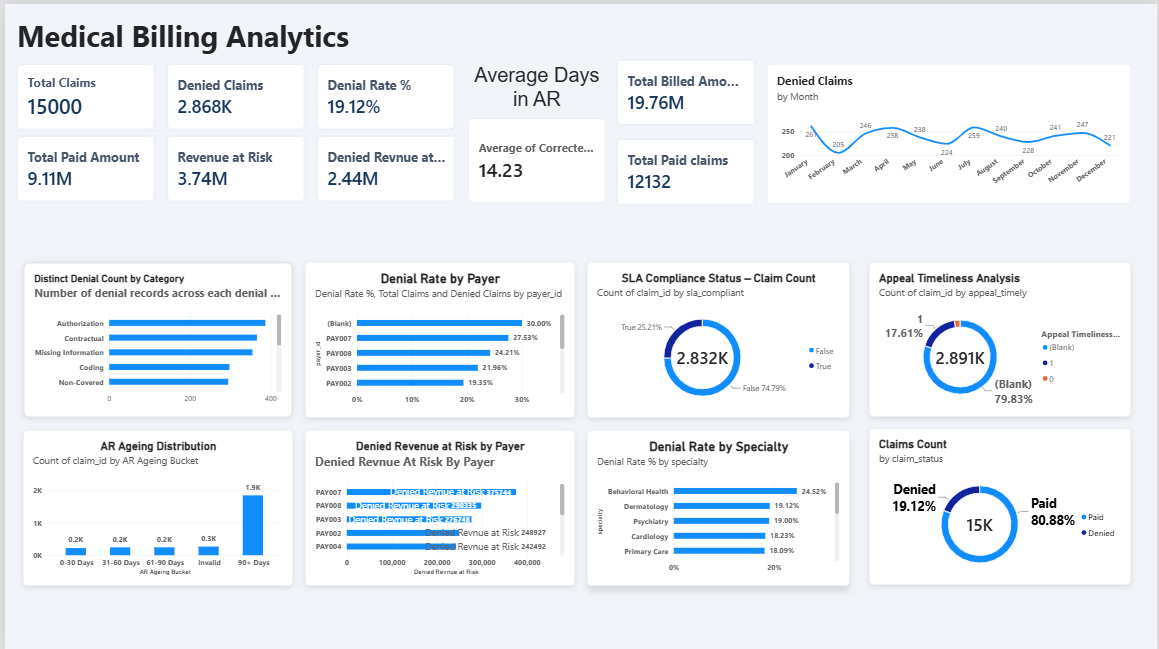

What the dashboard file says about the page in this screenshot:
{"tool":"powerbi","page":{"name":"Executive Dashboard","canvas":[1920,1080],"ordinal":0},"visuals":[{"type":"cardVisual","fields":{"Data":["public claims (2).Total Claims"]},"box":[20,100,230,110],"z":0},{"type":"cardVisual","fields":{"Data":["public claims (2).Denied Claims"]},"box":[270,100,230,110],"z":1},{"type":"cardVisual","fields":{"Data":["public claims (2).Denial Rate %"]},"box":[520,100,230,110],"z":2},{"type":"cardVisual","fields":{"Data":["public claims (2).Total Billed Amount"]},"box":[1020.5,93.5,230,110],"z":3},{"type":"cardVisual","fields":{"Data":["public claims (2).Total Paid Amount"]},"box":[20,220,230,110],"z":4},{"type":"cardVisual","fields":{"Data":["public claims (2).Revenue at Risk"]},"box":[270,220,230,110],"z":5},{"type":"cardVisual","fields":{"Data":["public claims (2).Denied Revnue at Risk"]},"box":[520,220,230,110],"z":6},{"type":"cardVisual","fields":{"Data":["public claims (2).Total Paid claims"]},"box":[1020.5,223.9,230,110],"z":7},{"type":"textbox","box":[20,345,230,150],"z":8},{"type":"textbox","box":[20.1,20.1,1000,75],"z":9},{"type":"donutChart","fields":{"Category":["public claims (2).claim_status"],"Y":["public claims (2).Claims Count"]},"box":[1440,708.7,436.5,260.8],"z":11},{"type":"clusteredBarChart","title":"Denial Rate by Payer","fields":{"Category":["public claims (2).payer_id"],"Y":["public claims (2).Denial Rate %"]},"box":[500,430,450,260],"z":12},{"type":"clusteredBarChart","title":"Denial Rate by Specialty","fields":{"Category":["public providers.specialty"],"Y":["public claims (2).Denial Rate %"]},"box":[970,710,438,260],"z":13},{"type":"clusteredColumnChart","title":"AR Ageing Distribution","fields":{"Category":["public ar_followup.AR Ageing Bucket"],"Y":["CountNonNull(public ar_followup.claim_id)"]},"box":[30,710,450,260],"z":14},{"type":"lineChart","fields":{"Category":["public claims (2).claim_submission_date.Variation.Date Hierarchy.Month"],"Y":["public claims (2).Denied Claims"]},"box":[1269.9,99.2,606.6,232.4],"z":15},{"type":"clusteredBarChart","title":"Denied Revenue at Risk by Payer","fields":{"Category":["public claims (2).payer_id"],"Y":["public claims (2).Denied Revnue at Risk"]},"box":[500,710,450,260],"z":16},{"type":"donutChart","title":"SLA Compliance Status – Claim Count","fields":{"Category":["public ar_followup.sla_compliant"],"Y":["Count(public ar_followup.claim_id)"]},"box":[970,430,438,260],"z":17},{"type":"donutChart","title":"Appeal Timeliness Analysis","fields":{"Category":["public denials.appeal_timely"],"Y":["CountNonNull(public denials.claim_id)"]},"box":[1440,430.9,436.5,258],"z":18},{"type":"cardVisual","title":"Average Days in AR","fields":{"Data":["Avg(public ar_followup.Corrected_Days_In_AR)"]},"box":[772,100,228,232],"z":19},{"type":"clusteredBarChart","title":"Distinct Denial Count by Category","fields":{"Category":["public denials.denial_category"],"Y":["Count(public denials.denial_id)"]},"box":[30,430,450,260],"z":20}]}

Visuals, with their boxes in screenshot pixels (x1, y1, x2, y2), scaled from the page's 1920x1080 canvas onto the 1159x649 screenshot:
cardVisual - public claims (2).Total Claims: (12,60,151,126)
cardVisual - public claims (2).Denied Claims: (163,60,302,126)
cardVisual - public claims (2).Denial Rate %: (314,60,453,126)
cardVisual - public claims (2).Total Billed Amount: (616,56,755,122)
cardVisual - public claims (2).Total Paid Amount: (12,132,151,198)
cardVisual - public claims (2).Revenue at Risk: (163,132,302,198)
cardVisual - public claims (2).Denied Revnue at Risk: (314,132,453,198)
cardVisual - public claims (2).Total Paid claims: (616,135,755,201)
textbox: (12,207,151,297)
textbox: (12,12,616,57)
donutChart - public claims (2).claim_status x public claims (2).Claims Count: (869,426,1133,583)
"Denial Rate by Payer" clusteredBarChart: (302,258,573,415)
"Denial Rate by Specialty" clusteredBarChart: (586,427,850,583)
"AR Ageing Distribution" clusteredColumnChart: (18,427,290,583)
lineChart - public claims (2).claim_submission_date.Variation.Date Hierarchy.Month x public claims (2).Denied Claims: (767,60,1133,199)
"Denied Revenue at Risk by Payer" clusteredBarChart: (302,427,573,583)
"SLA Compliance Status – Claim Count" donutChart: (586,258,850,415)
"Appeal Timeliness Analysis" donutChart: (869,259,1133,414)
"Average Days in AR" cardVisual: (466,60,604,200)
"Distinct Denial Count by Category" clusteredBarChart: (18,258,290,415)
